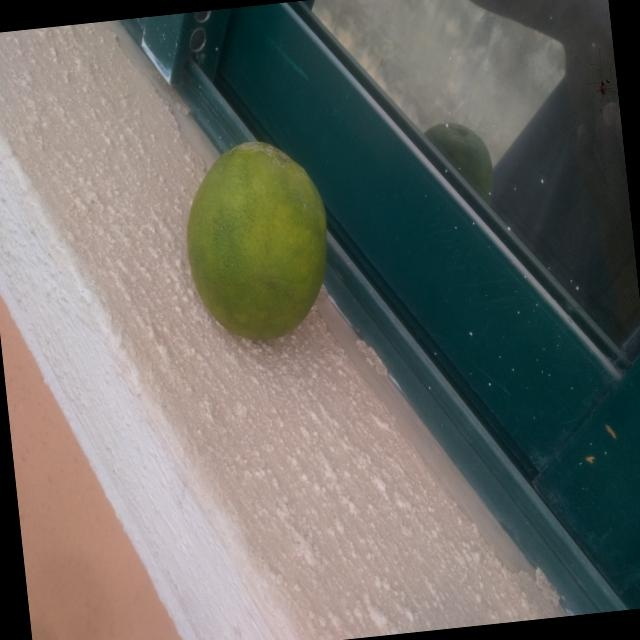agrume: (169, 121, 347, 356)
